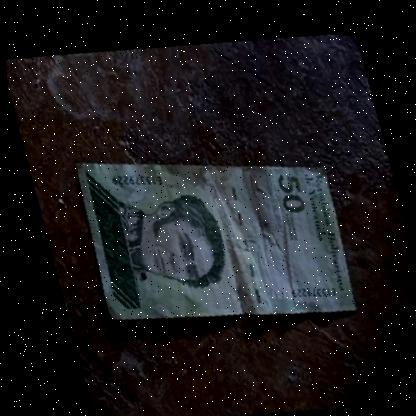fifty-front-vef: (70, 139, 354, 338)
